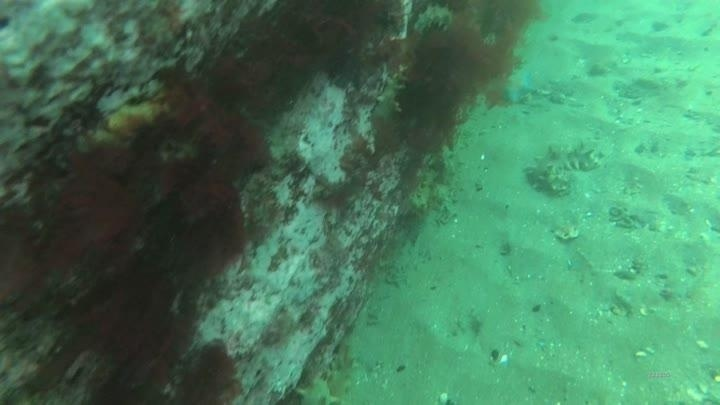holothurian: (522, 137, 603, 198), (294, 345, 360, 404), (370, 61, 410, 126), (292, 369, 342, 403), (409, 2, 457, 36)
starfish: (479, 65, 541, 110)
